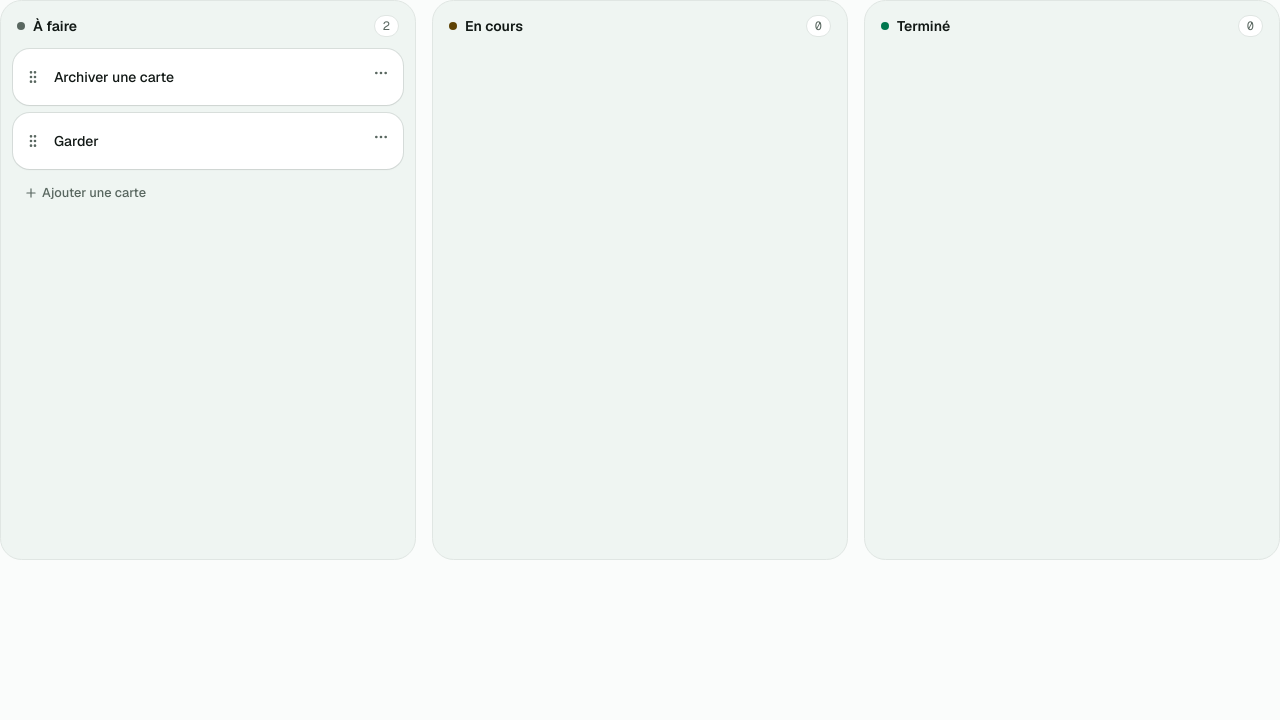
Test case: BoardView — archiver une carte › « Archiver » dans le panneau d'édition ferme le panneau et retire la carte
Click the button "Archiver une carte": (114, 77) [53, 67, 361, 88]
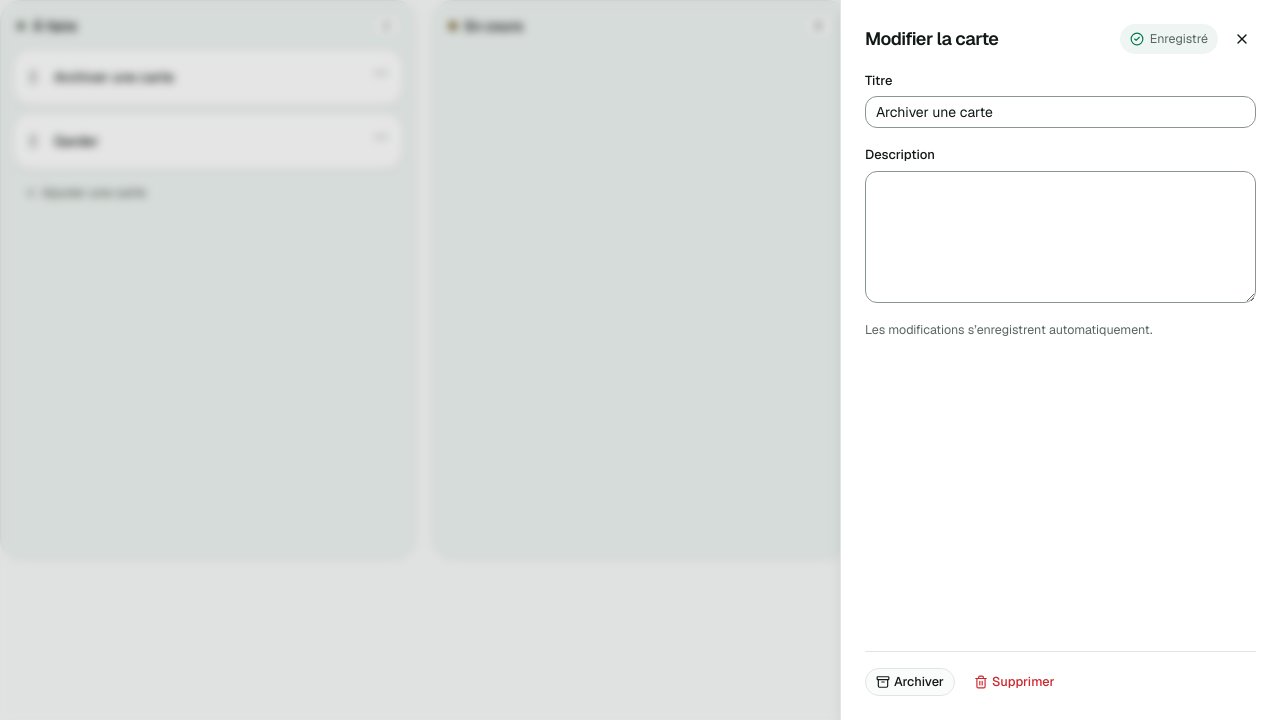
Click the button "Archiver": (910, 682) [865, 668, 955, 696]
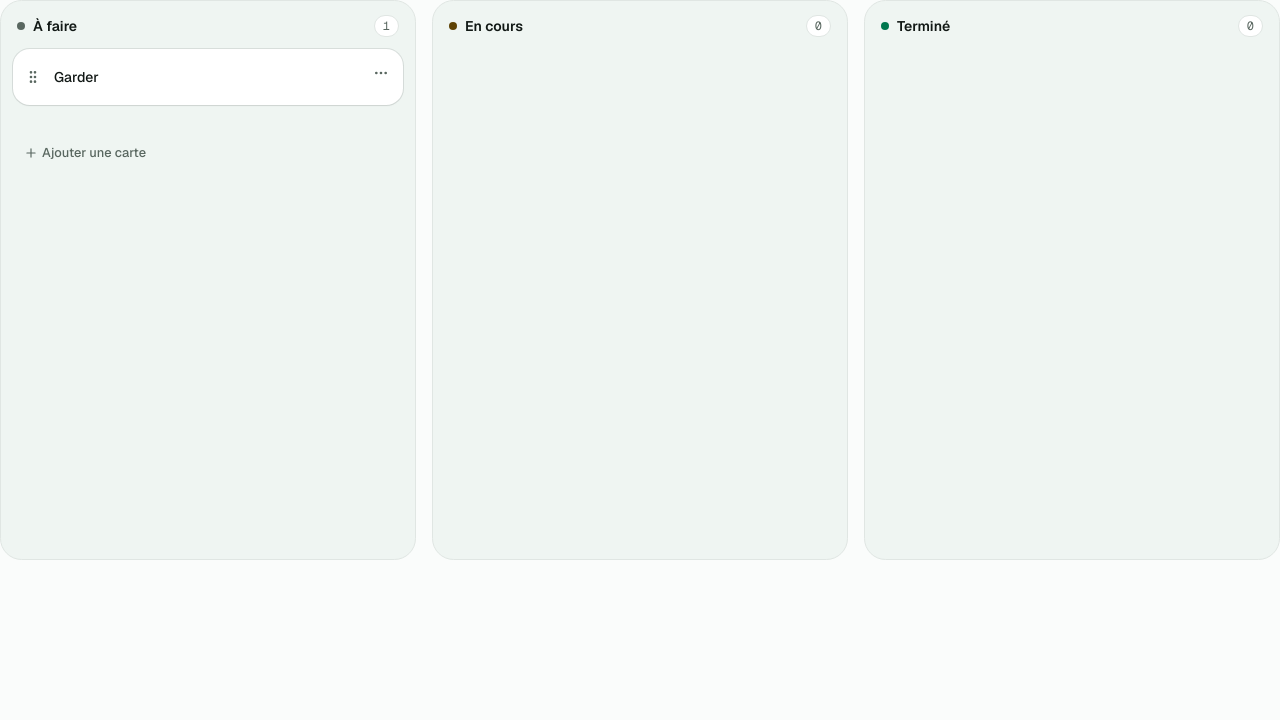
Now the heading "Modifier la carte" is gone
